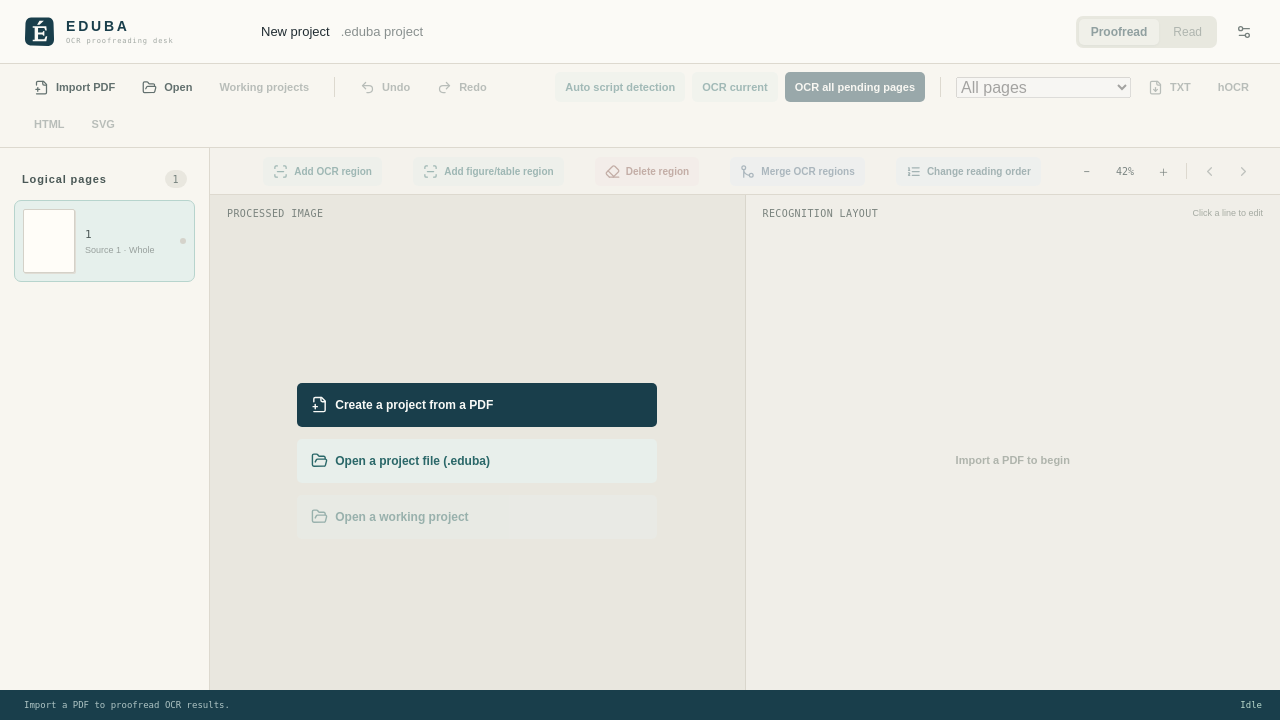
Test: saved project loading › keeps the previous language choice and reports a preference save failure
Click the button "Open" at point(167, 87), box 132,72 -> 202,102
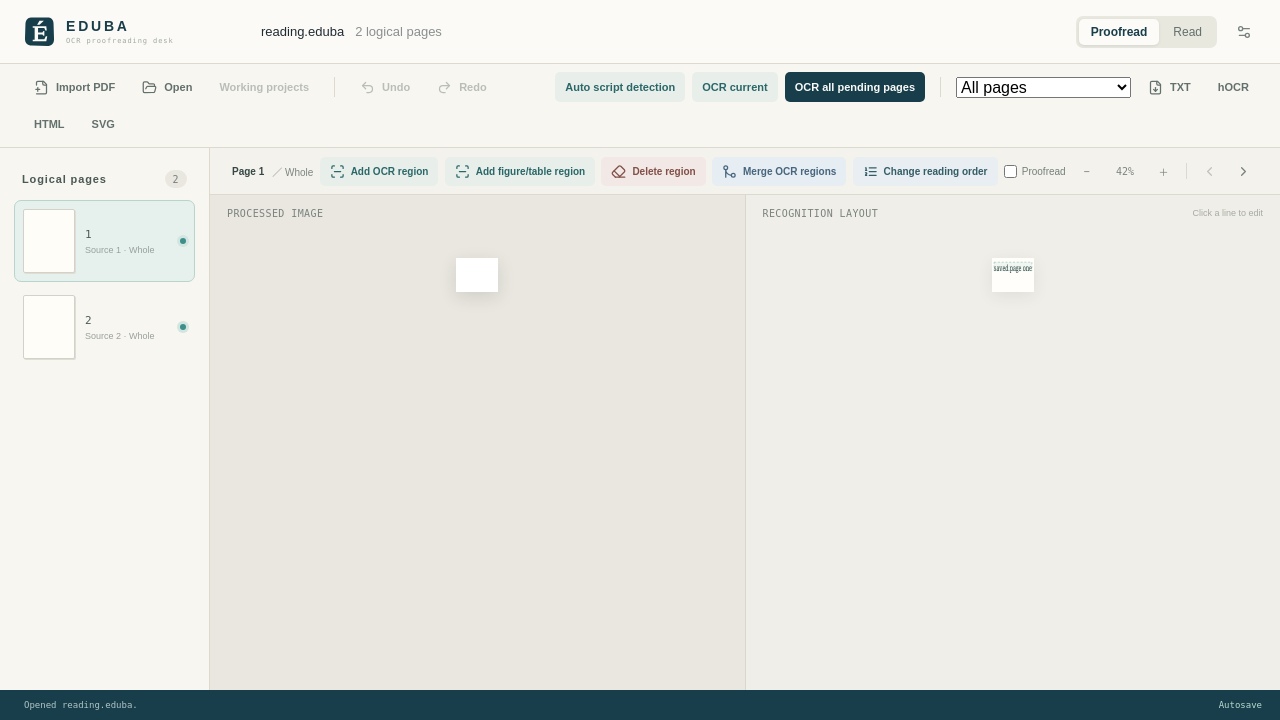
Expected: the text "saved page one" is shown, 992,258 -> 1034,292
Click the button named "Settings" at point(1244, 32), box 1229,17 -> 1258,46
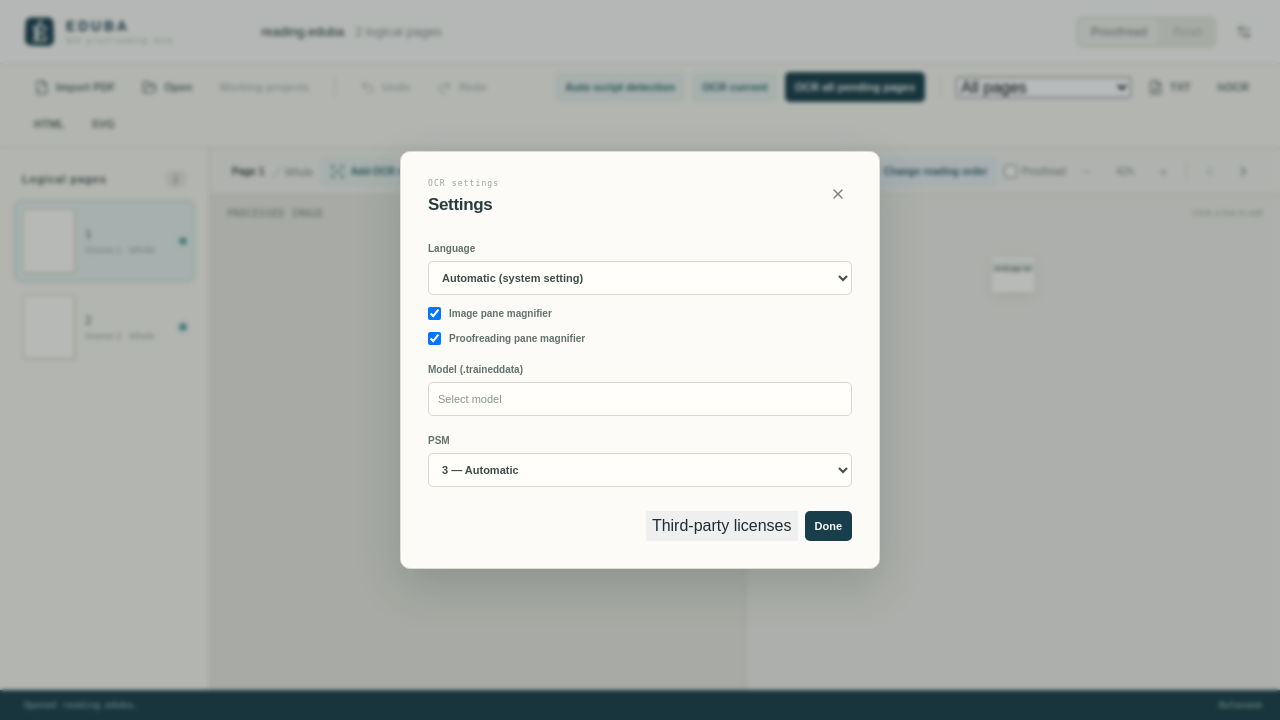
Select "日本語" in the dropdown named "Language" at point(640, 278), box 428,261 -> 852,295
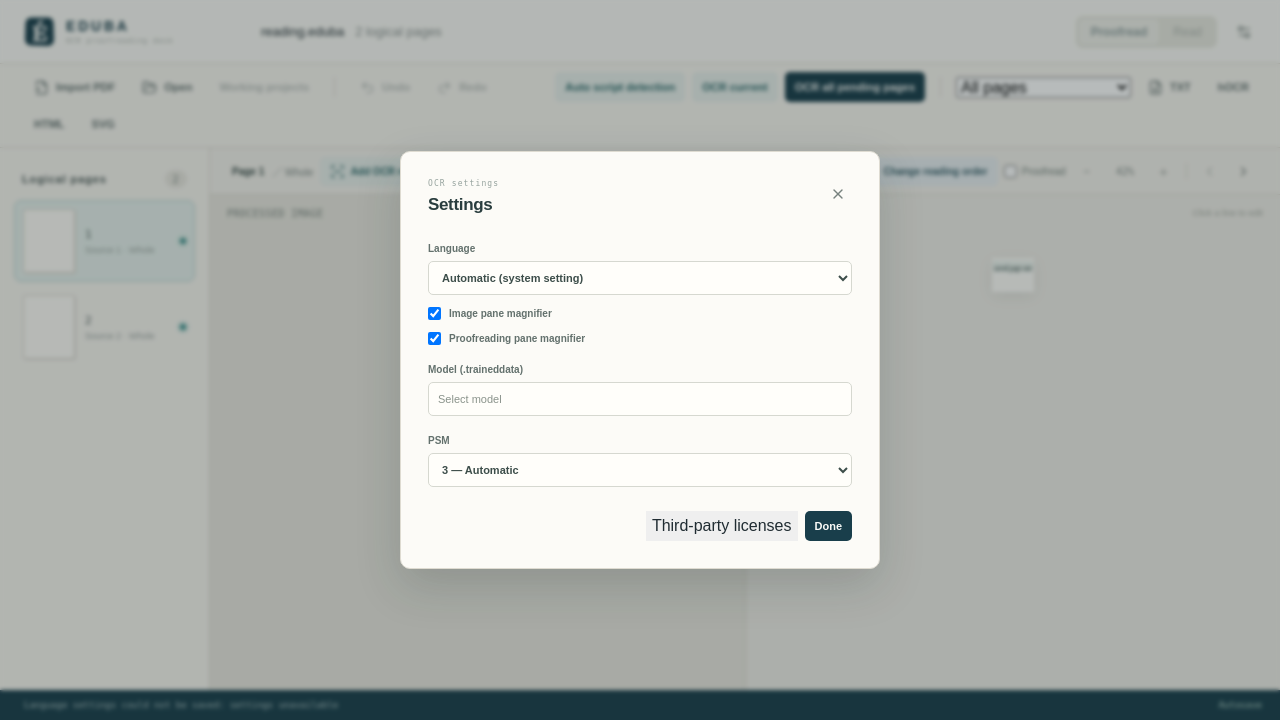
Expected: the text "saved page one" is shown, 992,258 -> 1034,292
Expected: the text "Language settings could not be saved" is shown, 24,700 -> 338,710
